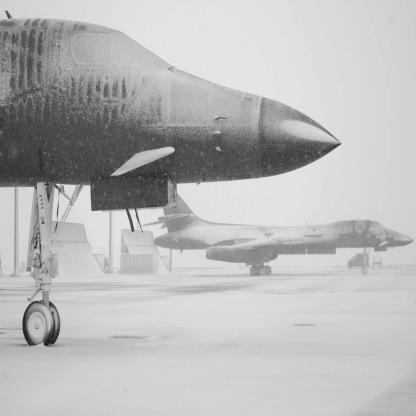B1: (1, 11, 343, 347), (139, 194, 415, 277)
